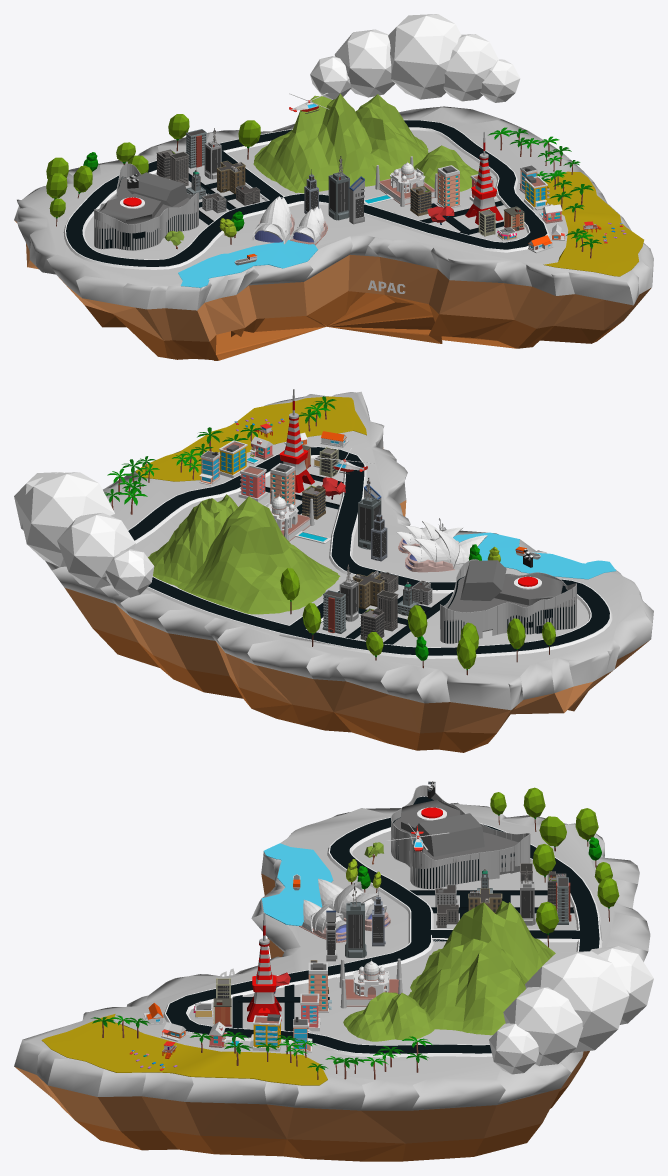
The model's file is APAC.fbx.
3 renders of one model, top to bottom at view 1: azimuth 30°, elevation 25°; view 2: azimuth 150°, elevation 25°; view 3: azimuth 270°, elevation 25°, orthographic. The views are drawn at different scales.
Parts seen in each view (by area): view 1: island, cloud, Landscape_2_1, Road, iconic_APAC, Line070, Eco_City_Stump2_329_1, Line071, Sidney001, Palm_0_004, tower, Tajmahal_002 (+9 smaller); view 2: island, Landscape_2_1, Road, cloud, iconic_APAC, Line070, Eco_City_Stump2_329_1, Sidney001, Line071, Palm_0_004, tower, Tajmahal_002 (+12 smaller); view 3: island, Landscape_2_1, cloud, Road, Line070, iconic_APAC, Eco_City_Stump2_329_1, Line071, Sidney001, Palm_0_004, tower, Tajmahal_002 (+9 smaller).
Part boxes in pixels (<box>): island: <box>14,106,653,360</box>; cloud: <box>310,14,520,102</box>; Landscape_2_1: <box>253,93,478,193</box>; Road: <box>63,119,549,269</box>; iconic_APAC: <box>94,163,198,250</box>; Line070: <box>543,171,643,276</box>; Eco_City_Stump2_329_1: <box>46,114,260,249</box>; Line071: <box>178,240,317,287</box>; Sidney001: <box>251,196,327,245</box>; Palm_0_004: <box>488,127,601,258</box>; tower: <box>465,131,503,224</box>; Tajmahal_002: <box>379,162,435,204</box>; island: <box>45,391,653,752</box>; Landscape_2_1: <box>148,494,340,614</box>; Road: <box>128,446,612,658</box>; cloud: <box>14,472,154,597</box>; iconic_APAC: <box>440,559,576,643</box>; Line070: <box>135,396,366,481</box>; Eco_City_Stump2_329_1: <box>280,544,555,675</box>; Sidney001: <box>396,520,487,572</box>; Line071: <box>453,532,616,579</box>; Palm_0_004: <box>104,396,336,514</box>; tower: <box>279,389,314,492</box>; Tajmahal_002: <box>264,494,310,541</box>; island: <box>14,802,650,1161</box>; Landscape_2_1: <box>343,900,555,1041</box>; cloud: <box>489,946,653,1074</box>; Road: <box>163,817,602,1057</box>; Line070: <box>41,1014,327,1085</box>; iconic_APAC: <box>391,785,530,889</box>; Eco_City_Stump2_329_1: <box>346,787,619,947</box>; Line071: <box>261,843,333,925</box>; Sidney001: <box>299,878,390,942</box>; Palm_0_004: <box>91,1015,432,1079</box>; tower: <box>247,912,281,1021</box>; Tajmahal_002: <box>345,959,398,1006</box>.
Size of the model in its own units: 1143 by 446 by 1053.
24 materials, 11 textured.
